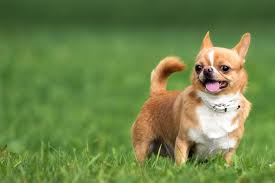chihuahua: (132, 31, 253, 165)
